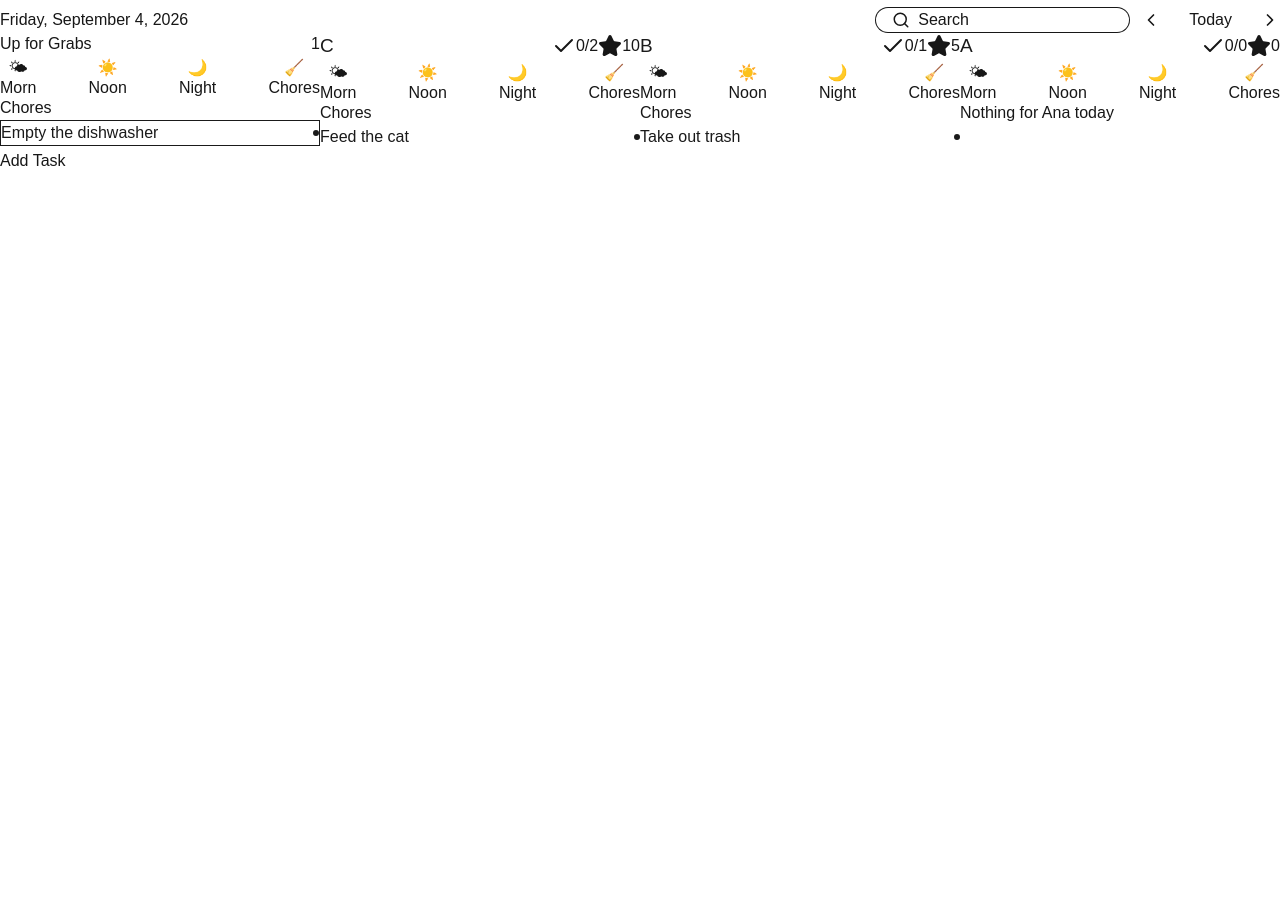
Scenario: the US3 states (T063) › asks who did it instead of completing an unclaimed one anonymously (FR-367, FR-368)
This screenshot has width=1280, height=900.
Step 1. Click the button named "Complete Empty the dishwasher" → (316,133), box [313, 130, 319, 136]
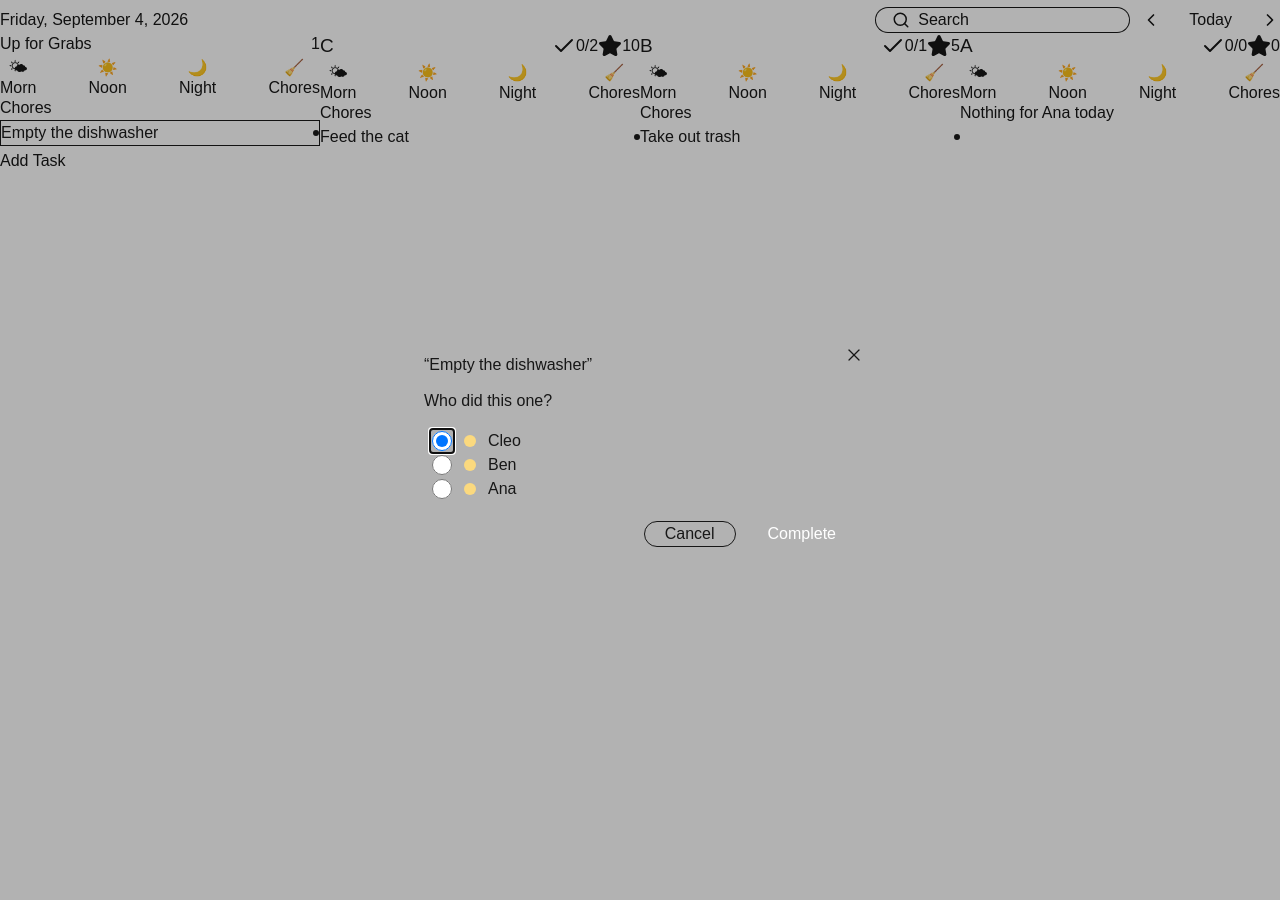
Expected: the element showing "Cleo Ben Ana" is shown, [432, 431, 521, 499]
